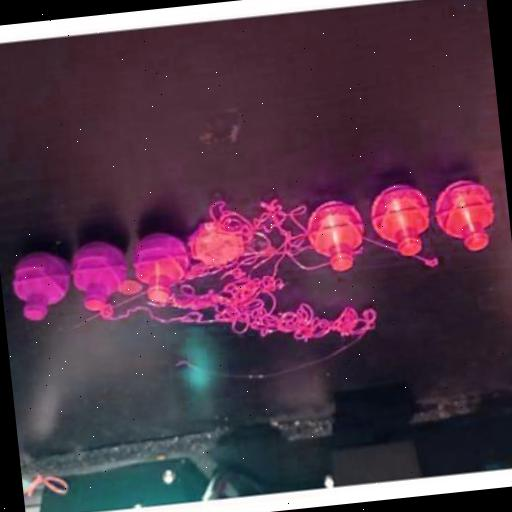spaghetti: (100, 270, 378, 366), (174, 190, 318, 292), (412, 250, 442, 270), (350, 242, 368, 260), (313, 260, 335, 272)
